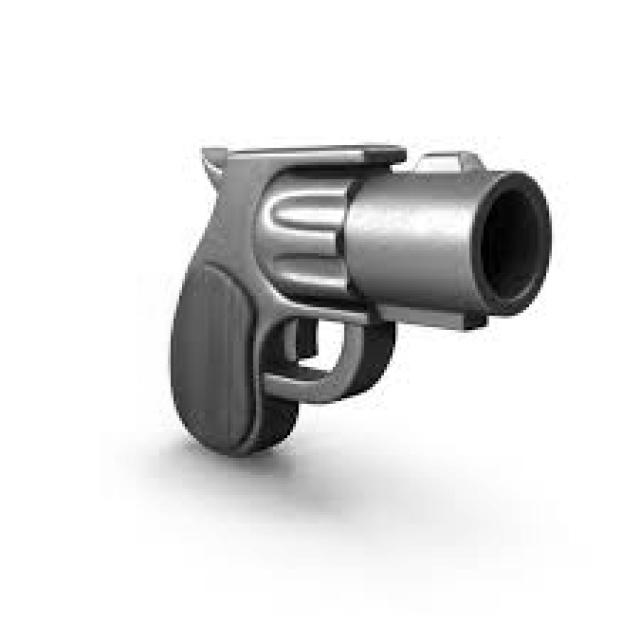gun: (168, 139, 552, 458)
